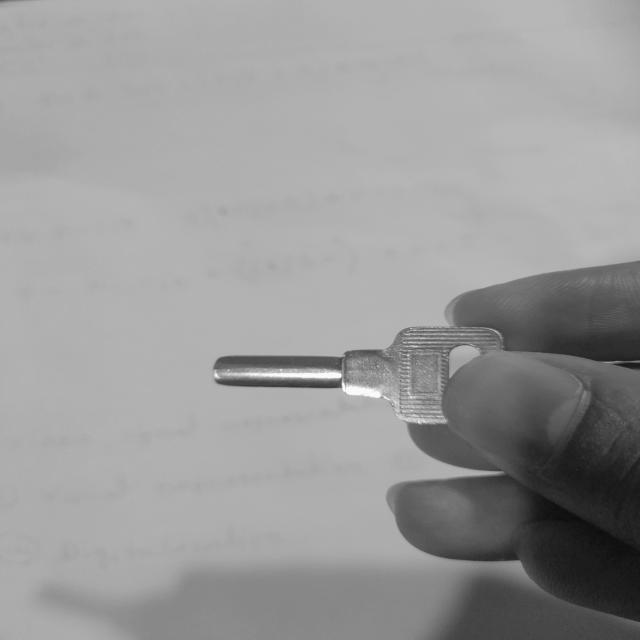KEY: (214, 327, 504, 425)
